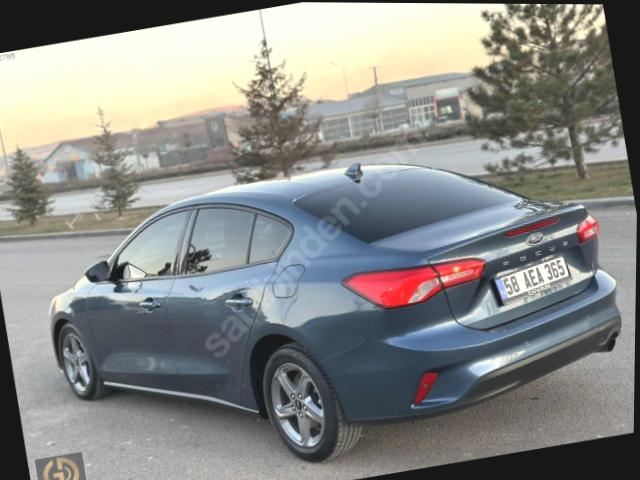plaka: (495, 256, 572, 304)
